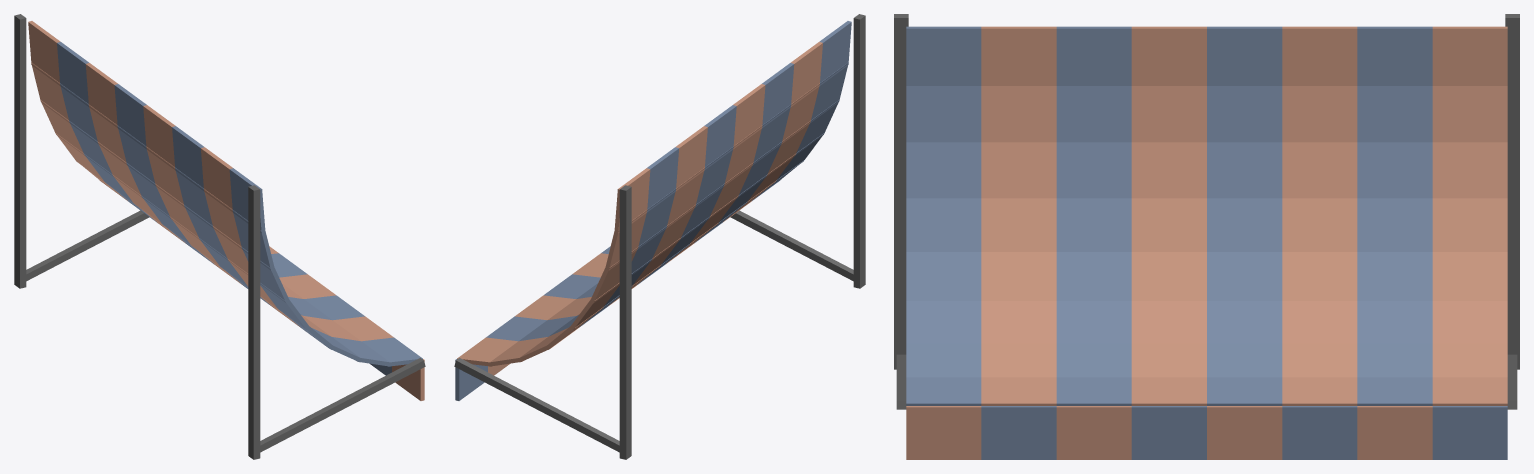
File: dm_awningsmall.glb
The picture shows the model from 3 angles, left to right: view 1: azimuth 30°, elevation 25°; view 2: azimuth 150°, elevation 25°; view 3: azimuth 270°, elevation 25°; orthographic projection. The views are drawn at different scales.
Parts seen in each view (by area): view 1: dm_awningsmall; view 2: dm_awningsmall; view 3: dm_awningsmall.
Part boxes in pixels (x1,y1,x2,y2): dm_awningsmall: [14, 14, 425, 459]; dm_awningsmall: [454, 14, 865, 459]; dm_awningsmall: [894, 14, 1519, 459].
Bounding box in the file's own units: 0.546 × 0.8 × 1.29.
